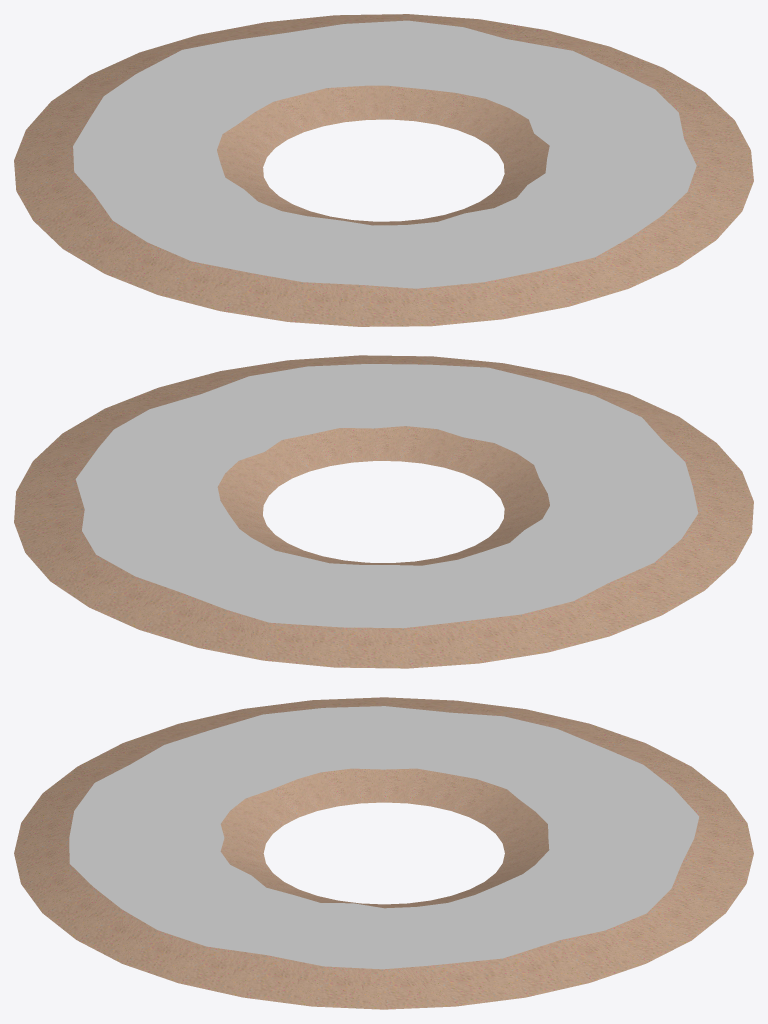
The model's file is circleroad.fbx.
3 views of the same model, one above another, from view 1: azimuth 30°, elevation 25°; view 2: azimuth 150°, elevation 25°; view 3: azimuth 270°, elevation 25° (orthographic).
Parts seen in each view (by area): view 1: circleroad; view 2: circleroad; view 3: circleroad.
Boxes of the visible parts, x1=… form: circleroad: x1=14, y1=14, x2=753, y2=326; circleroad: x1=14, y1=355, x2=753, y2=668; circleroad: x1=14, y1=697, x2=753, y2=1009.
Bounding box in the file's own units: 526 × 12.34 × 526.
